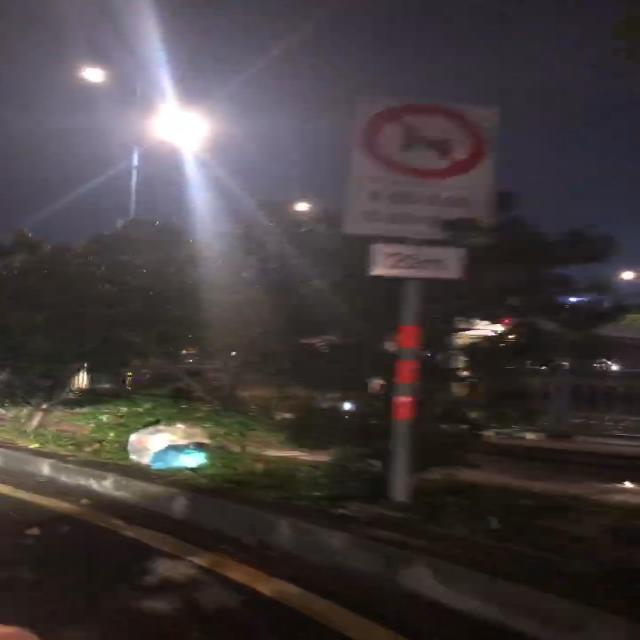Bien bao cam xe oto: (356, 92, 496, 182)
